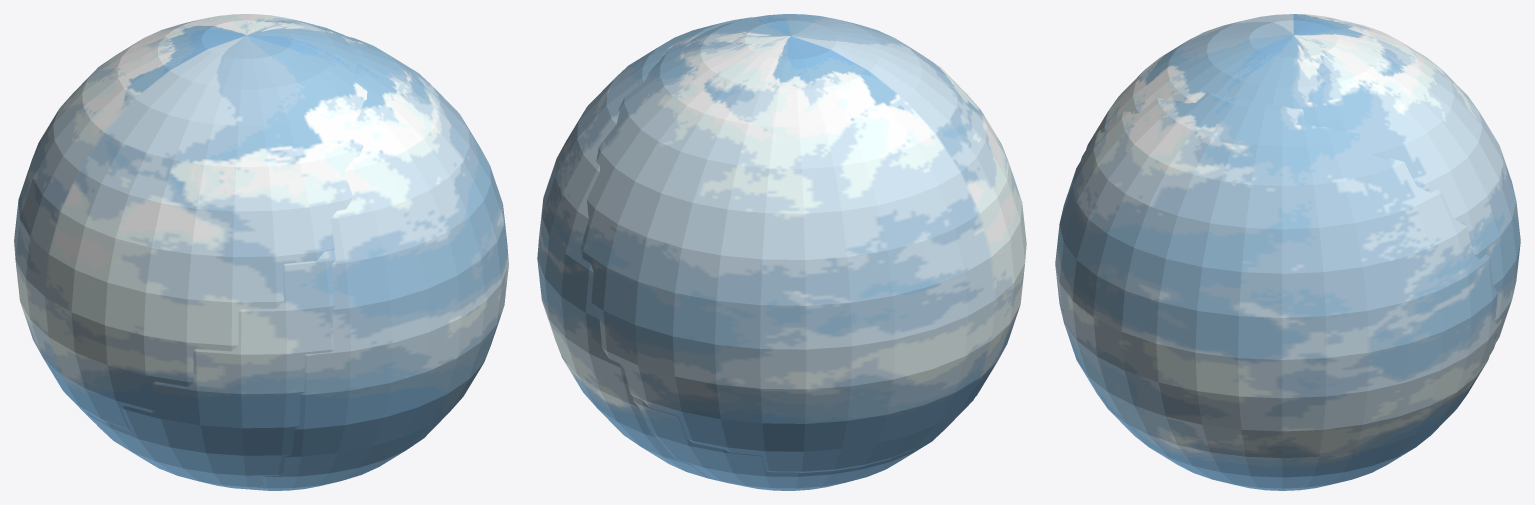
The model's file is Hoenn_map.glb.
The picture shows the model from 3 angles, left to right: view 1: azimuth 30°, elevation 25°; view 2: azimuth 150°, elevation 25°; view 3: azimuth 270°, elevation 25°; orthographic projection. The views are drawn at different scales.
Parts seen in each view (by area): view 1: Sphere.004, Sphere.005, Sphere; view 2: Sphere.004, Sphere.005, Sphere; view 3: Sphere.005, Sphere.004.
Part boxes in pixels (box(x1,y1,x2,y2)): Sphere.004: box(14, 14, 367, 431); Sphere.005: box(252, 36, 508, 490); Sphere: box(86, 250, 335, 489); Sphere.004: box(580, 14, 1026, 473); Sphere.005: box(537, 17, 752, 485); Sphere: box(632, 395, 974, 490); Sphere.005: box(1055, 92, 1501, 490); Sphere.004: box(1086, 14, 1520, 345).
Bounding box in the file's own units: 749 × 729 × 726.
43 materials, 10 textured.
